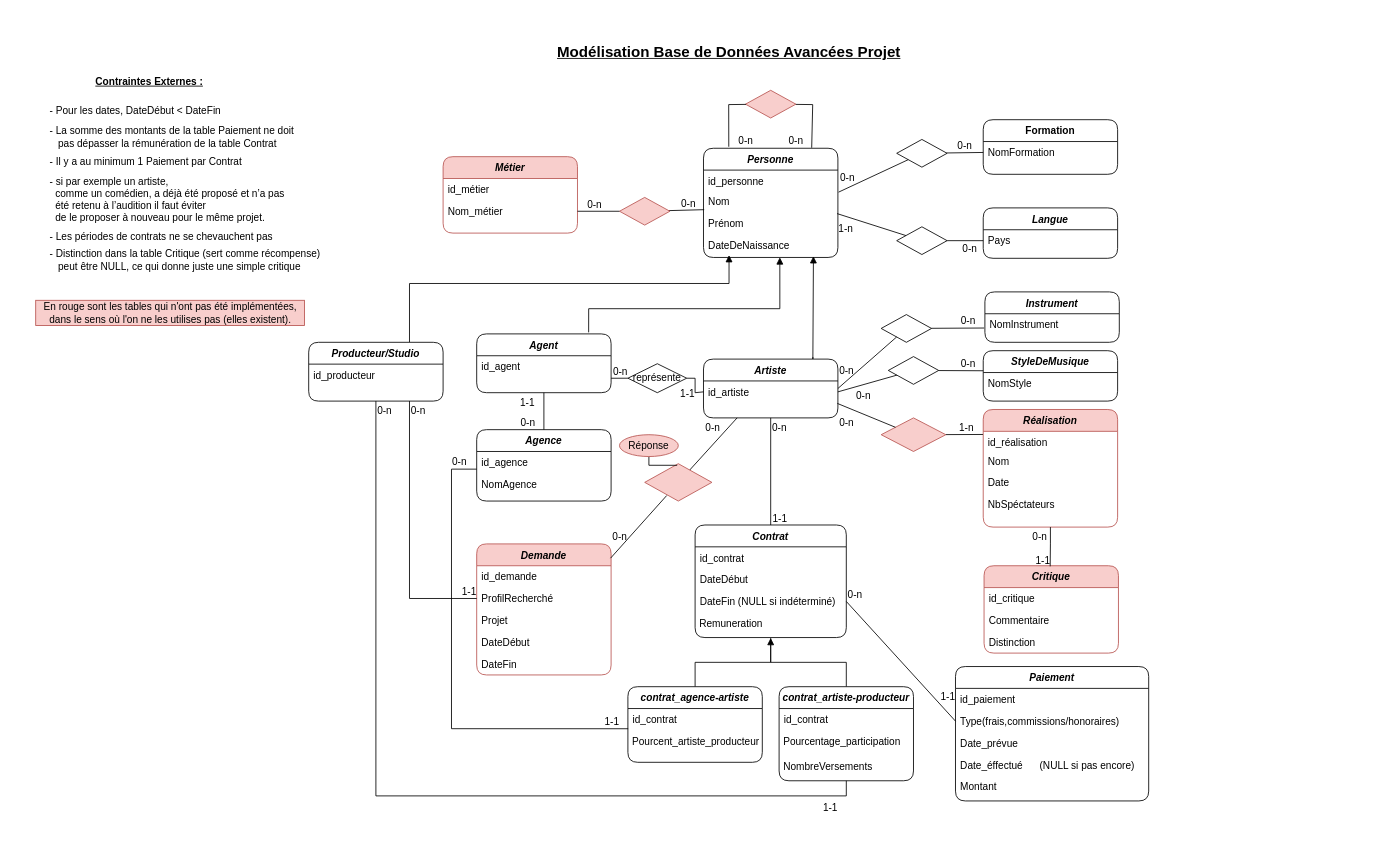
This 1389x852 diagram has some shape labels left out. Here are the shapes that lost their labels. From the top down, the centre of each, then its label:
the point at 770,103: connaît
the point at 921,153: a fait
the point at 644,211: exerce
the point at 921,240: parle
the point at 906,328: maîtrise
the point at 913,370: joue
the point at 913,434: a participé
the point at 678,482: auditionne
